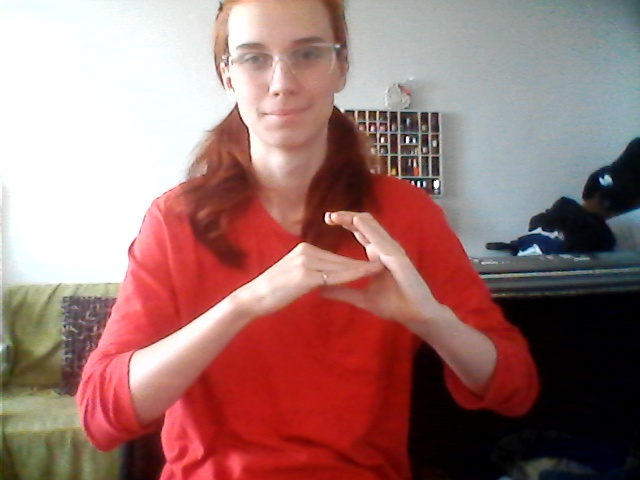e: (253, 204, 431, 335)
